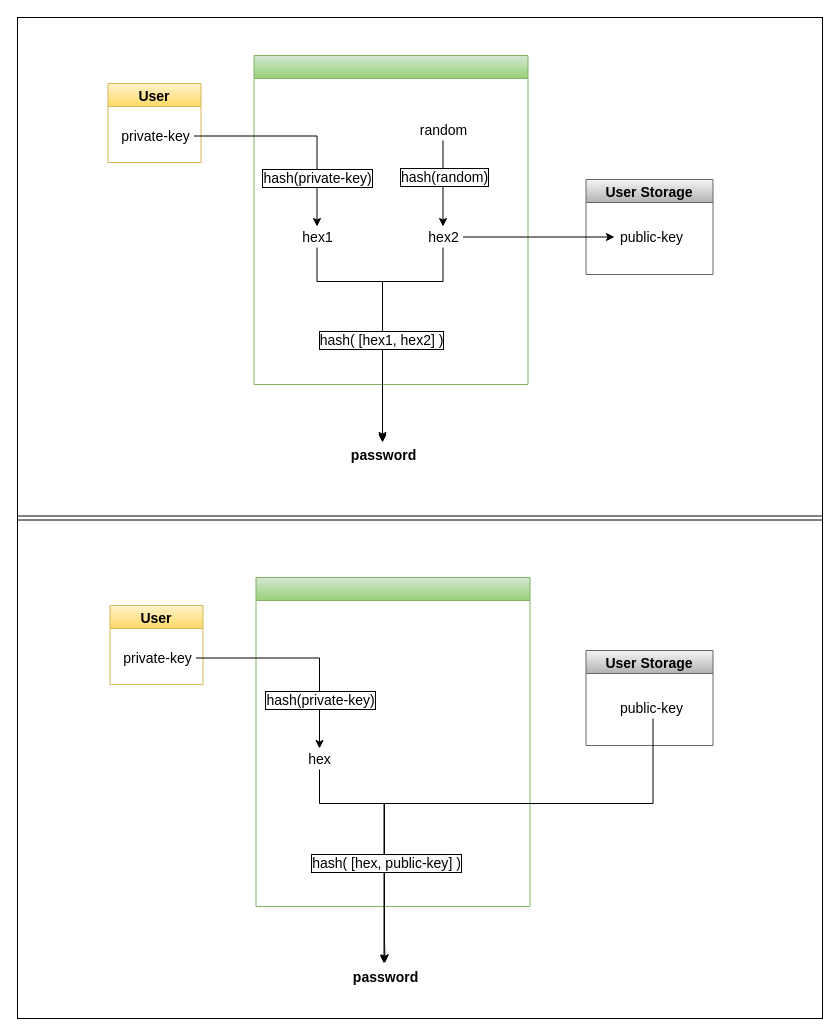
Image size: 840x1036. Some labels were removed from this diagram. The shapes that lost their labels are listed below. From the top down, each one's box as (x1, y1, x2, y2) in pixels, then its label:
(253, 54, 528, 384): Generate New Password
(255, 576, 530, 906): Recover Password
